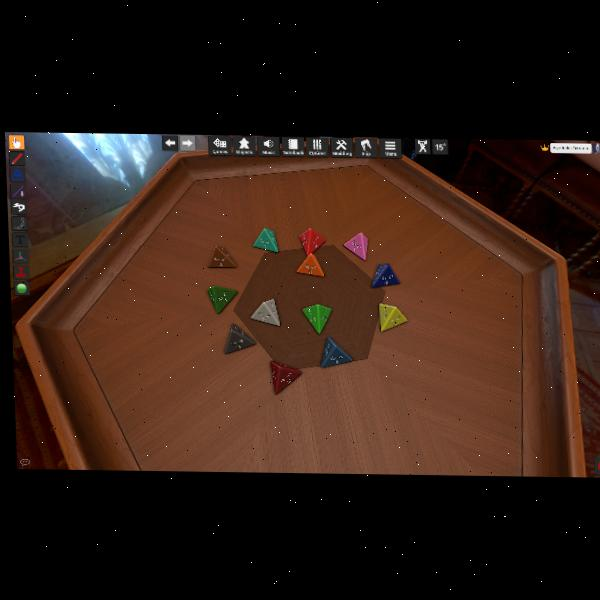d4: (271, 360, 303, 394), (318, 337, 351, 369), (223, 325, 256, 356), (301, 303, 332, 334), (207, 284, 238, 314), (380, 303, 408, 332), (250, 298, 280, 325), (342, 232, 368, 260), (299, 228, 324, 257), (371, 263, 399, 288), (297, 252, 325, 277), (208, 244, 236, 268), (253, 228, 279, 252)
